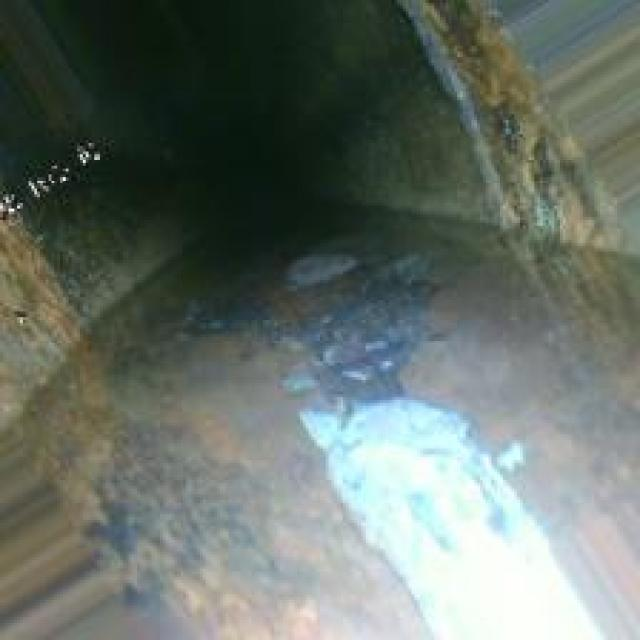stone: (183, 254, 411, 477)
